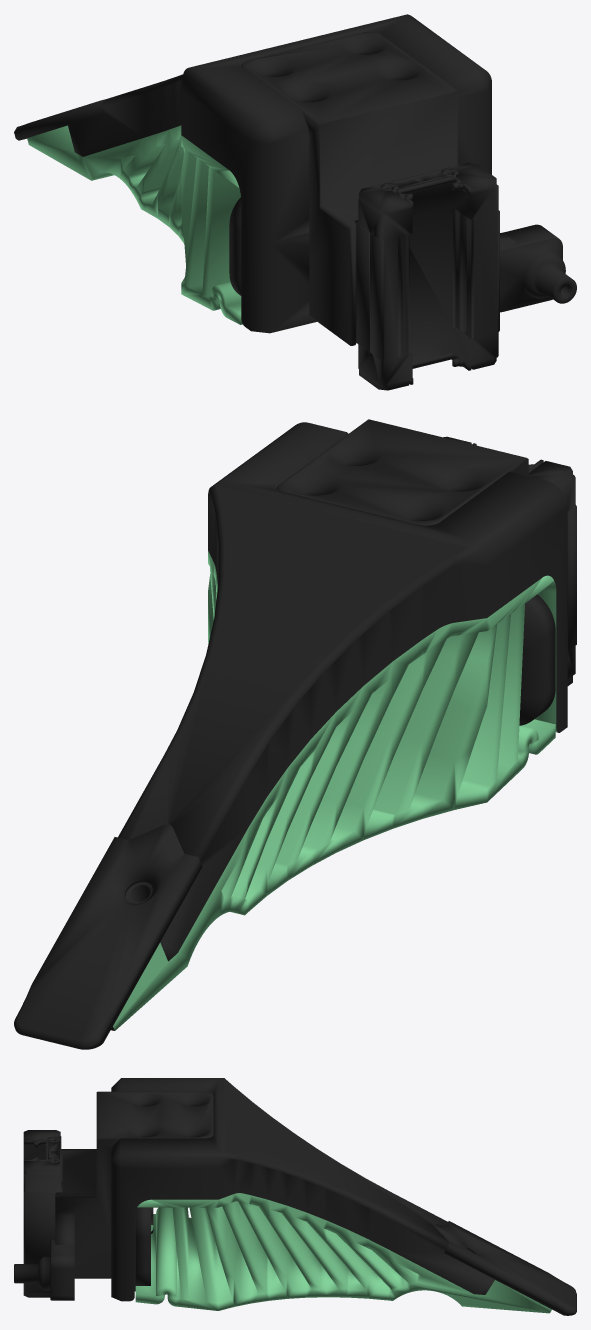
Rendered from right_gripperb_link.glb.
3 views of the same model, one above another, from view 1: azimuth 30°, elevation 25°; view 2: azimuth 150°, elevation 25°; view 3: azimuth 270°, elevation 25° (orthographic). The views are drawn at different scales.
Parts seen in each view (by area): view 1: right_gripperb_link (×2); view 2: right_gripperb_link (×2); view 3: right_gripperb_link (×2).
Boxes of the visible parts, box(x1,y1,x2,y2) form: right_gripperb_link (×2): box(14, 14, 576, 390); right_gripperb_link (×2): box(14, 419, 576, 1049); right_gripperb_link (×2): box(14, 1078, 576, 1315).
Bounding box in the file's own units: 0.0435 × 0.043 × 0.1157.
